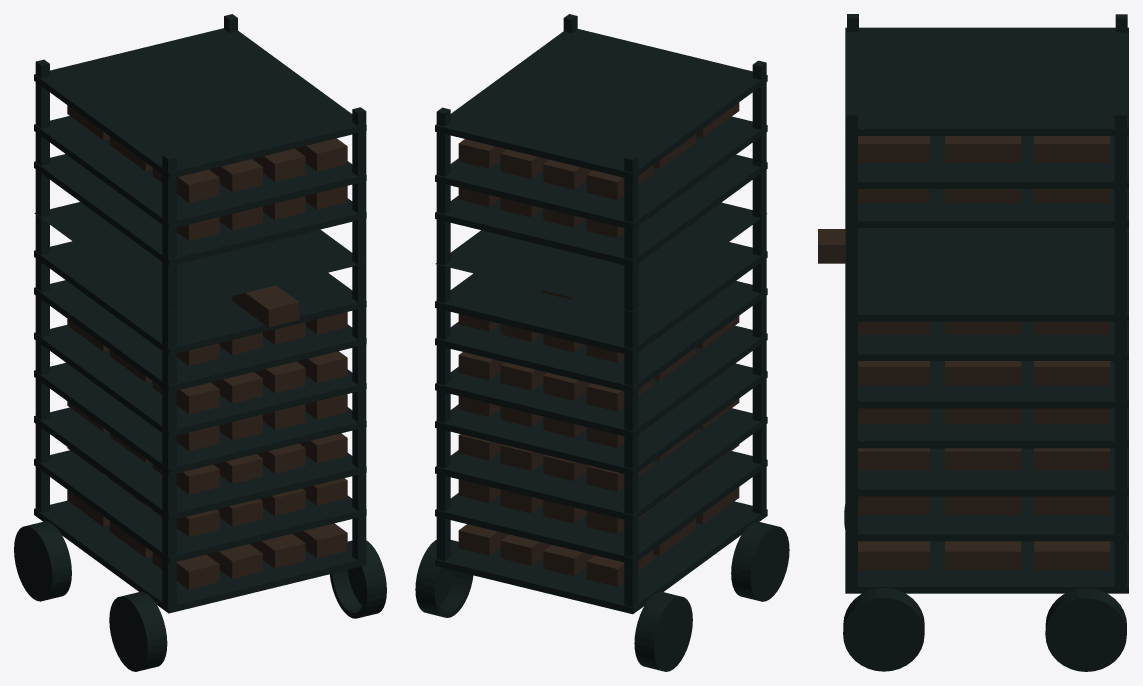
File: stockage2test7.obj
3 views of the same model, side by side, from view 1: azimuth 30°, elevation 25°; view 2: azimuth 150°, elevation 25°; view 3: azimuth 270°, elevation 25° (orthographic). The views are drawn at different scales.
Visible parts, largest first — view 1: Cube.14144_Cube.14198_Cube.14144_Cube.14198_camion_bleu.1275, Cube.14144_Cube.14198_Cube.14144_Cube.14198_marron.19627, Cube.14144_Cube.14198_Cube.14144_Cube.14198_marron.19543, Cube.14144_Cube.14198_Cube.14144_Cube.14198_marron.19542, Cube.14144_Cube.14198_Cube.14144_Cube.14198_marron.19541, Cube.14144_Cube.14198_Cube.14144_Cube.14198_marron.19540, Cube.14144_Cube.14198_Cube.14144_Cube.14198_marron.19639, Cube.14144_Cube.14198_Cube.14144_Cube.14198_marron.19638, Cube.14144_Cube.14198_Cube.14144_Cube.14198_marron.19637, Cube.14144_Cube.14198_Cube.14144_Cube.14198_marron.19636, Cube.14144_Cube.14198_Cube.14144_Cube.14198_marron.19591, Cube.14144_Cube.14198_Cube.14144_Cube.14198_marron.19590 (+22 smaller); view 2: Cube.14144_Cube.14198_Cube.14144_Cube.14198_camion_bleu.1275, Cube.14144_Cube.14198_Cube.14144_Cube.14198_marron.19535, Cube.14144_Cube.14198_Cube.14144_Cube.14198_marron.19534, Cube.14144_Cube.14198_Cube.14144_Cube.14198_marron.19533, Cube.14144_Cube.14198_Cube.14144_Cube.14198_marron.19544, Cube.14144_Cube.14198_Cube.14144_Cube.14198_marron.19631, Cube.14144_Cube.14198_Cube.14144_Cube.14198_marron.19630, Cube.14144_Cube.14198_Cube.14144_Cube.14198_marron.19629, Cube.14144_Cube.14198_Cube.14144_Cube.14198_marron.19640, Cube.14144_Cube.14198_Cube.14144_Cube.14198_marron.19583, Cube.14144_Cube.14198_Cube.14144_Cube.14198_marron.19582, Cube.14144_Cube.14198_Cube.14144_Cube.14198_marron.19581 (+10 smaller); view 3: Cube.14144_Cube.14198_Cube.14144_Cube.14198_camion_bleu.1275, Cube.14144_Cube.14198_Cube.14144_Cube.14198_marron.19544, Cube.14144_Cube.14198_Cube.14144_Cube.14198_marron.19536, Cube.14144_Cube.14198_Cube.14144_Cube.14198_marron.19540, Cube.14144_Cube.14198_Cube.14144_Cube.14198_marron.19640, Cube.14144_Cube.14198_Cube.14144_Cube.14198_marron.19632, Cube.14144_Cube.14198_Cube.14144_Cube.14198_marron.19636, Cube.14144_Cube.14198_Cube.14144_Cube.14198_marron.19592, Cube.14144_Cube.14198_Cube.14144_Cube.14198_marron.19584, Cube.14144_Cube.14198_Cube.14144_Cube.14198_marron.19588, Cube.14144_Cube.14198_Cube.14144_Cube.14198_marron.19568, Cube.14144_Cube.14198_Cube.14144_Cube.14198_marron.19560 (+14 smaller).
Boxes of the visible parts, x1=… form: Cube.14144_Cube.14198_Cube.14144_Cube.14198_camion_bleu.1275: x1=14, y1=14, x2=386, y2=671; Cube.14144_Cube.14198_Cube.14144_Cube.14198_marron.19627: x1=232, y1=285, x2=299, y2=327; Cube.14144_Cube.14198_Cube.14144_Cube.14198_marron.19543: x1=152, y1=552, x2=219, y2=589; Cube.14144_Cube.14198_Cube.14144_Cube.14198_marron.19542: x1=207, y1=544, x2=262, y2=578; Cube.14144_Cube.14198_Cube.14144_Cube.14198_marron.19541: x1=250, y1=533, x2=305, y2=568; Cube.14144_Cube.14198_Cube.14144_Cube.14198_marron.19540: x1=293, y1=523, x2=347, y2=558; Cube.14144_Cube.14198_Cube.14144_Cube.14198_marron.19639: x1=152, y1=168, x2=219, y2=202; Cube.14144_Cube.14198_Cube.14144_Cube.14198_marron.19638: x1=209, y1=159, x2=262, y2=192; Cube.14144_Cube.14198_Cube.14144_Cube.14198_marron.19637: x1=252, y1=148, x2=305, y2=181; Cube.14144_Cube.14198_Cube.14144_Cube.14198_marron.19636: x1=295, y1=138, x2=347, y2=171; Cube.14144_Cube.14198_Cube.14144_Cube.14198_marron.19591: x1=152, y1=381, x2=219, y2=414; Cube.14144_Cube.14198_Cube.14144_Cube.14198_marron.19590: x1=211, y1=372, x2=262, y2=403; Cube.14144_Cube.14198_Cube.14144_Cube.14198_camion_bleu.1275: x1=415, y1=14, x2=789, y2=671; Cube.14144_Cube.14198_Cube.14144_Cube.14198_marron.19535: x1=586, y1=550, x2=653, y2=586; Cube.14144_Cube.14198_Cube.14144_Cube.14198_marron.19534: x1=543, y1=545, x2=594, y2=576; Cube.14144_Cube.14198_Cube.14144_Cube.14198_marron.19533: x1=500, y1=534, x2=551, y2=565; Cube.14144_Cube.14198_Cube.14144_Cube.14198_marron.19544: x1=458, y1=524, x2=508, y2=555; Cube.14144_Cube.14198_Cube.14144_Cube.14198_marron.19631: x1=586, y1=165, x2=653, y2=199; Cube.14144_Cube.14198_Cube.14144_Cube.14198_marron.19630: x1=543, y1=160, x2=592, y2=189; Cube.14144_Cube.14198_Cube.14144_Cube.14198_marron.19629: x1=500, y1=149, x2=549, y2=178; Cube.14144_Cube.14198_Cube.14144_Cube.14198_marron.19640: x1=458, y1=139, x2=506, y2=168; Cube.14144_Cube.14198_Cube.14144_Cube.14198_marron.19583: x1=586, y1=378, x2=653, y2=411; Cube.14144_Cube.14198_Cube.14144_Cube.14198_marron.19582: x1=543, y1=372, x2=590, y2=400; Cube.14144_Cube.14198_Cube.14144_Cube.14198_marron.19581: x1=500, y1=362, x2=547, y2=390; Cube.14144_Cube.14198_Cube.14144_Cube.14198_camion_bleu.1275: x1=843, y1=14, x2=1128, y2=671; Cube.14144_Cube.14198_Cube.14144_Cube.14198_marron.19544: x1=1034, y1=541, x2=1110, y2=570; Cube.14144_Cube.14198_Cube.14144_Cube.14198_marron.19536: x1=945, y1=541, x2=1021, y2=570; Cube.14144_Cube.14198_Cube.14144_Cube.14198_marron.19540: x1=858, y1=541, x2=929, y2=570; Cube.14144_Cube.14198_Cube.14144_Cube.14198_marron.19640: x1=1034, y1=136, x2=1110, y2=162; Cube.14144_Cube.14198_Cube.14144_Cube.14198_marron.19632: x1=945, y1=136, x2=1021, y2=162; Cube.14144_Cube.14198_Cube.14144_Cube.14198_marron.19636: x1=858, y1=136, x2=929, y2=162; Cube.14144_Cube.14198_Cube.14144_Cube.14198_marron.19592: x1=1034, y1=361, x2=1110, y2=385; Cube.14144_Cube.14198_Cube.14144_Cube.14198_marron.19584: x1=945, y1=361, x2=1021, y2=385; Cube.14144_Cube.14198_Cube.14144_Cube.14198_marron.19588: x1=858, y1=361, x2=929, y2=385; Cube.14144_Cube.14198_Cube.14144_Cube.14198_marron.19568: x1=1034, y1=448, x2=1110, y2=470; Cube.14144_Cube.14198_Cube.14144_Cube.14198_marron.19560: x1=945, y1=448, x2=1021, y2=470.
Size of the model in its own units: 1.33 by 2.74 by 1.41.
